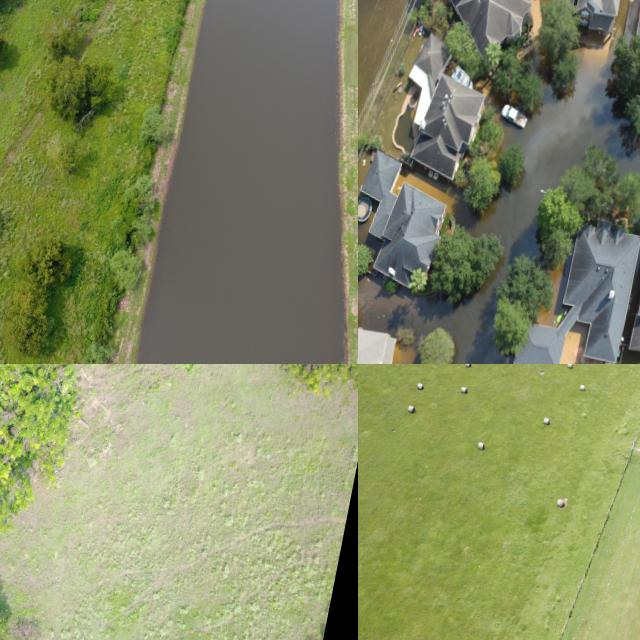fire: (138, 0, 345, 364), (412, 39, 640, 277), (413, 275, 506, 364)
